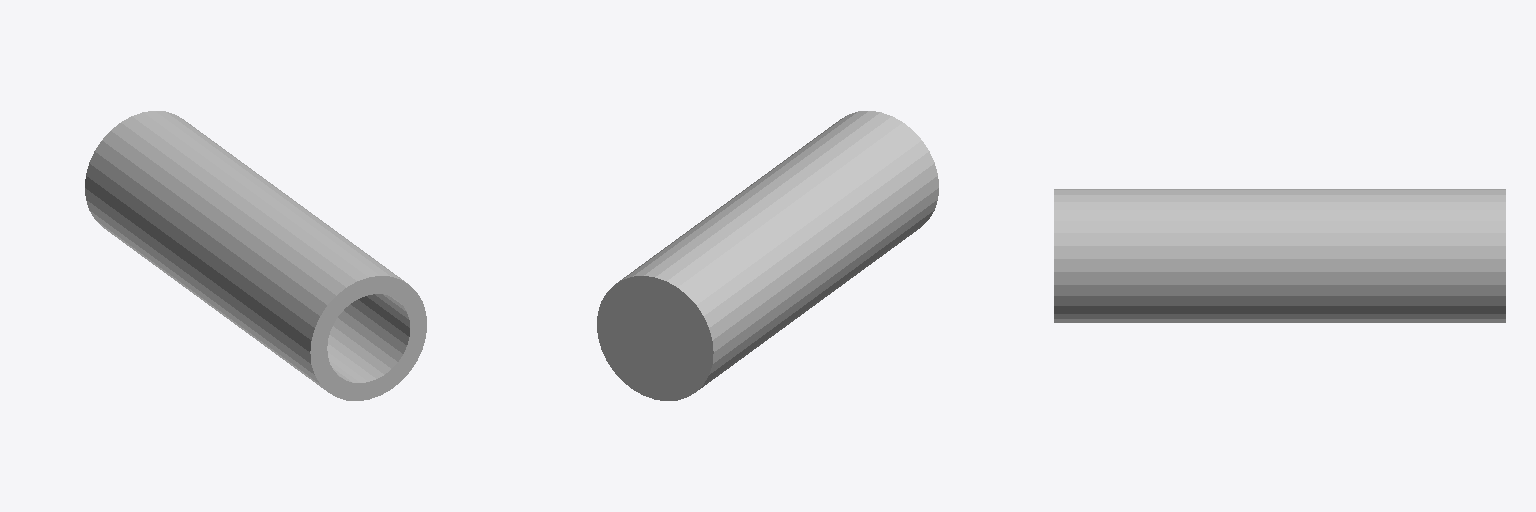
The model's file is cave_test.obj.
3 renders of one model, left to right at view 1: azimuth 30°, elevation 25°; view 2: azimuth 150°, elevation 25°; view 3: azimuth 270°, elevation 25°, orthographic.
Visible parts, largest first — view 1: Cylinder; view 2: Cylinder; view 3: Cylinder.
Part boxes in pixels (left/top/right/bottom): Cylinder: left=85, top=111, right=426, bottom=400; Cylinder: left=597, top=111, right=938, bottom=400; Cylinder: left=1054, top=189, right=1505, bottom=322.
Size of the model in its own units: 2 by 2 by 6.69.